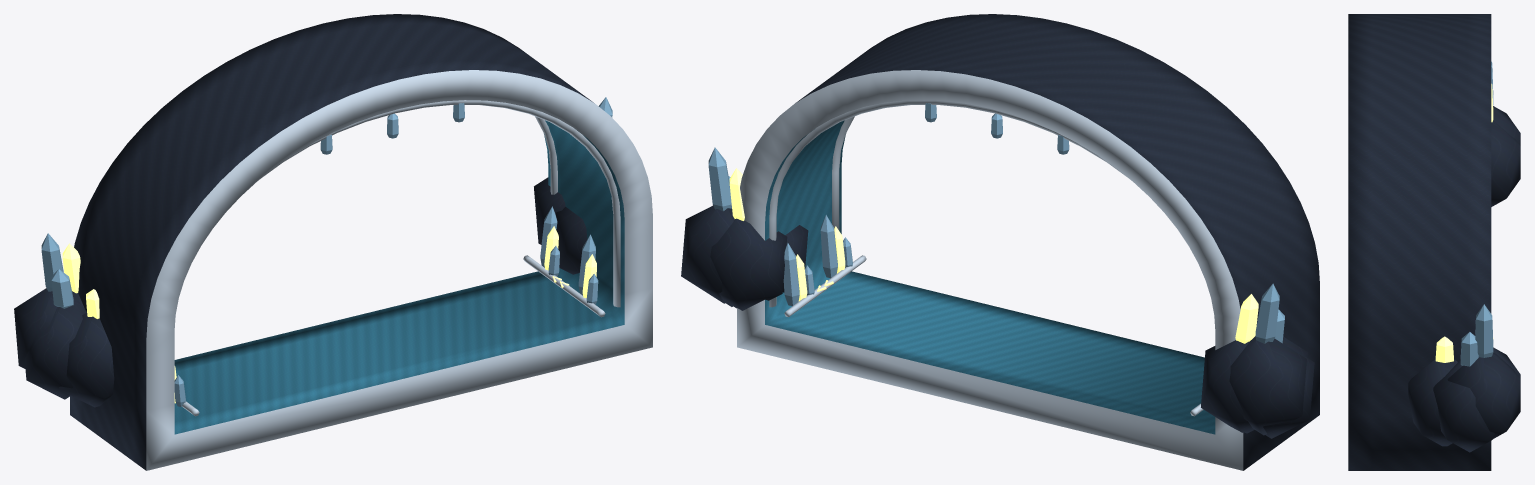
The model's file is portal_exit_lod1.glb.
3 renders of one model, left to right at view 1: azimuth 30°, elevation 25°; view 2: azimuth 150°, elevation 25°; view 3: azimuth 270°, elevation 25°, orthographic. The views are drawn at different scales.
Visible parts, largest first — view 1: TunnelGeometry.001; view 2: TunnelGeometry.001; view 3: TunnelGeometry.001.
Part boxes in pixels (x1,y1,x2,y2): TunnelGeometry.001: (14,14,652,470); TunnelGeometry.001: (681,14,1319,470); TunnelGeometry.001: (1348,14,1520,470).
Size of the model in its own units: 18.63 by 9.52 by 4.82.
5 materials, 2 textured.
